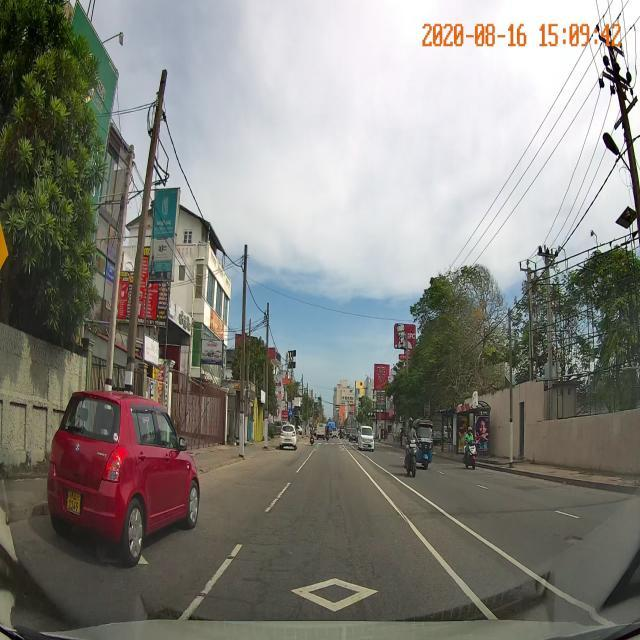diamond: (184, 574, 490, 613)
